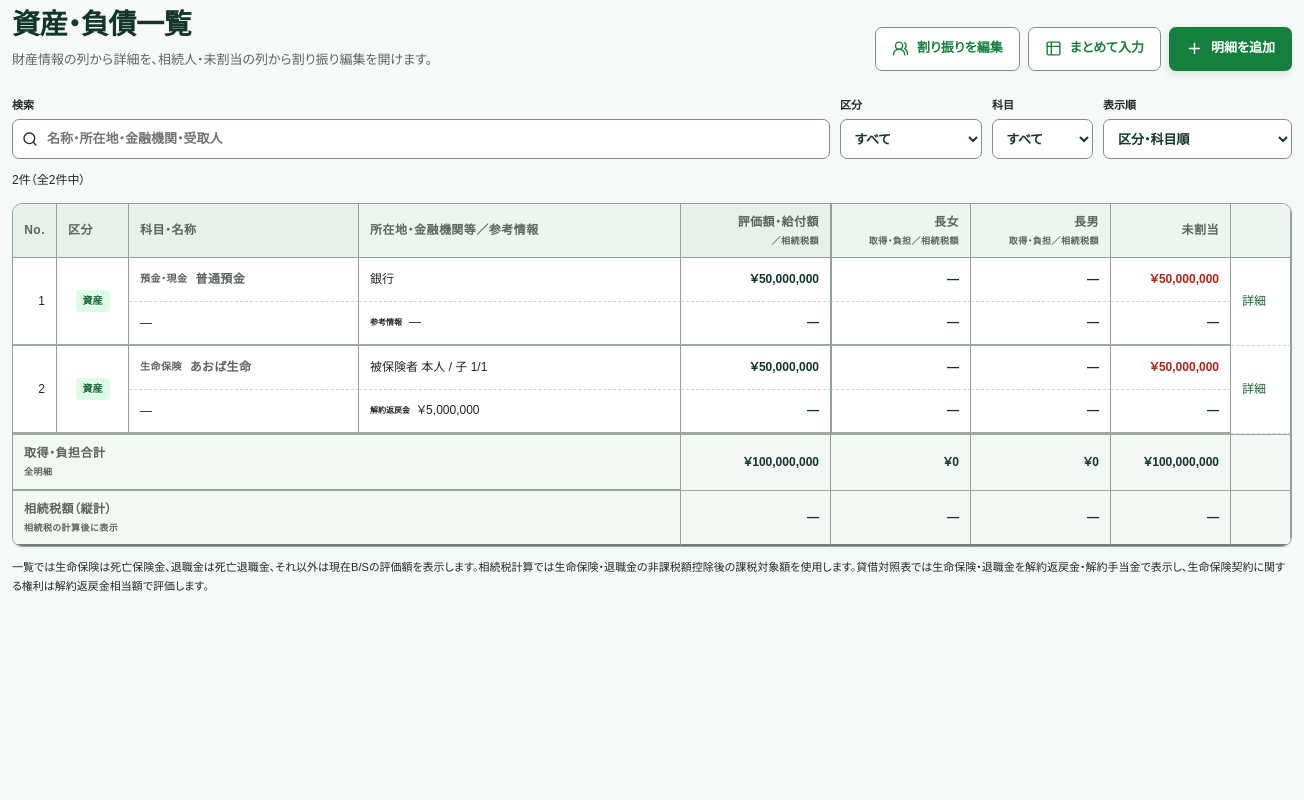
資産・負債一覧と詳細の連携 › 財産情報の列は詳細へ進み、相続人・未割当の列は対象行の割り振り編集を開く
Click the button named "普通預金の長女の取得・負担額を編集" at (900, 279), box [831,258,970,300]
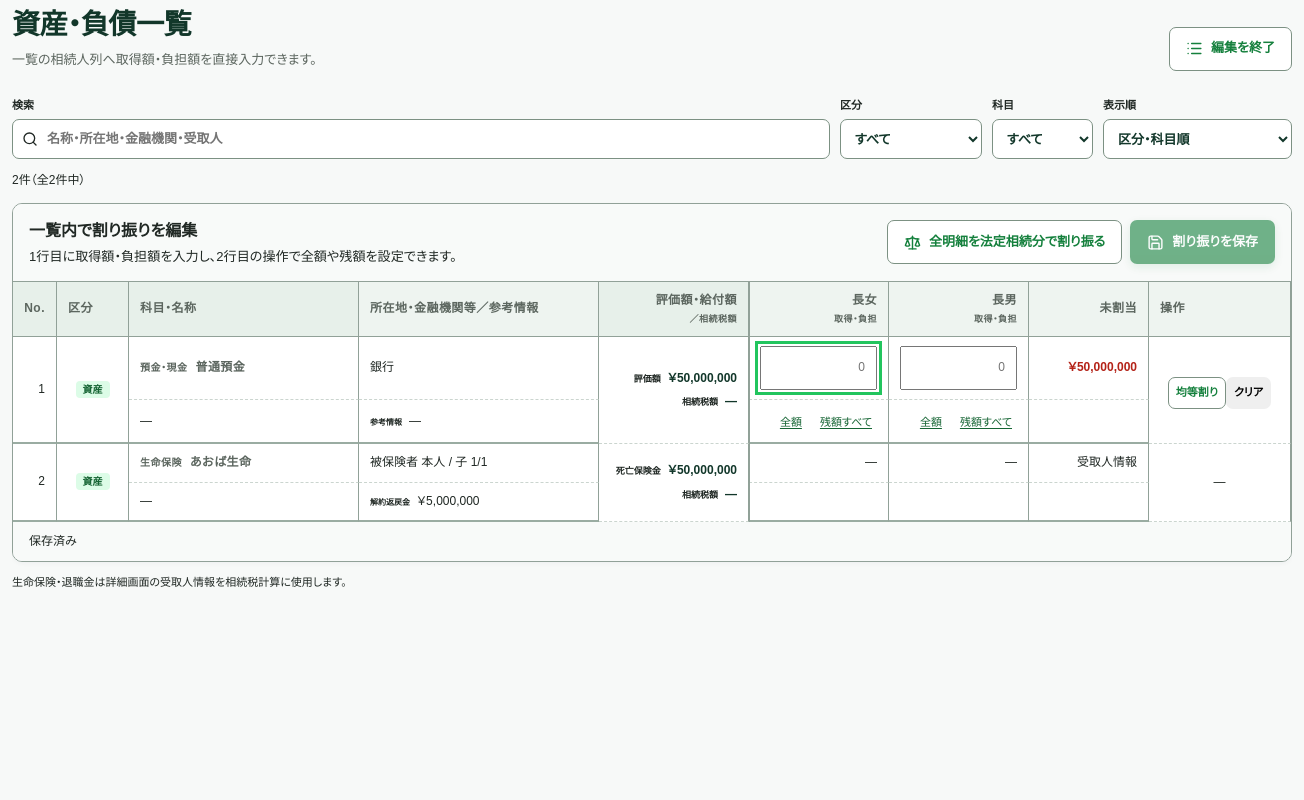
Check: the button "編集を終了" is shown, box [1169,27,1292,71]
